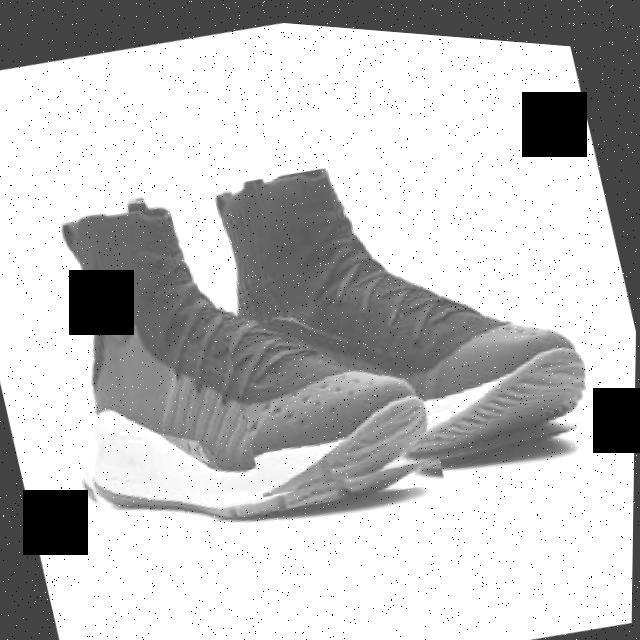shoe: (16, 128, 450, 561), (189, 102, 607, 513)
